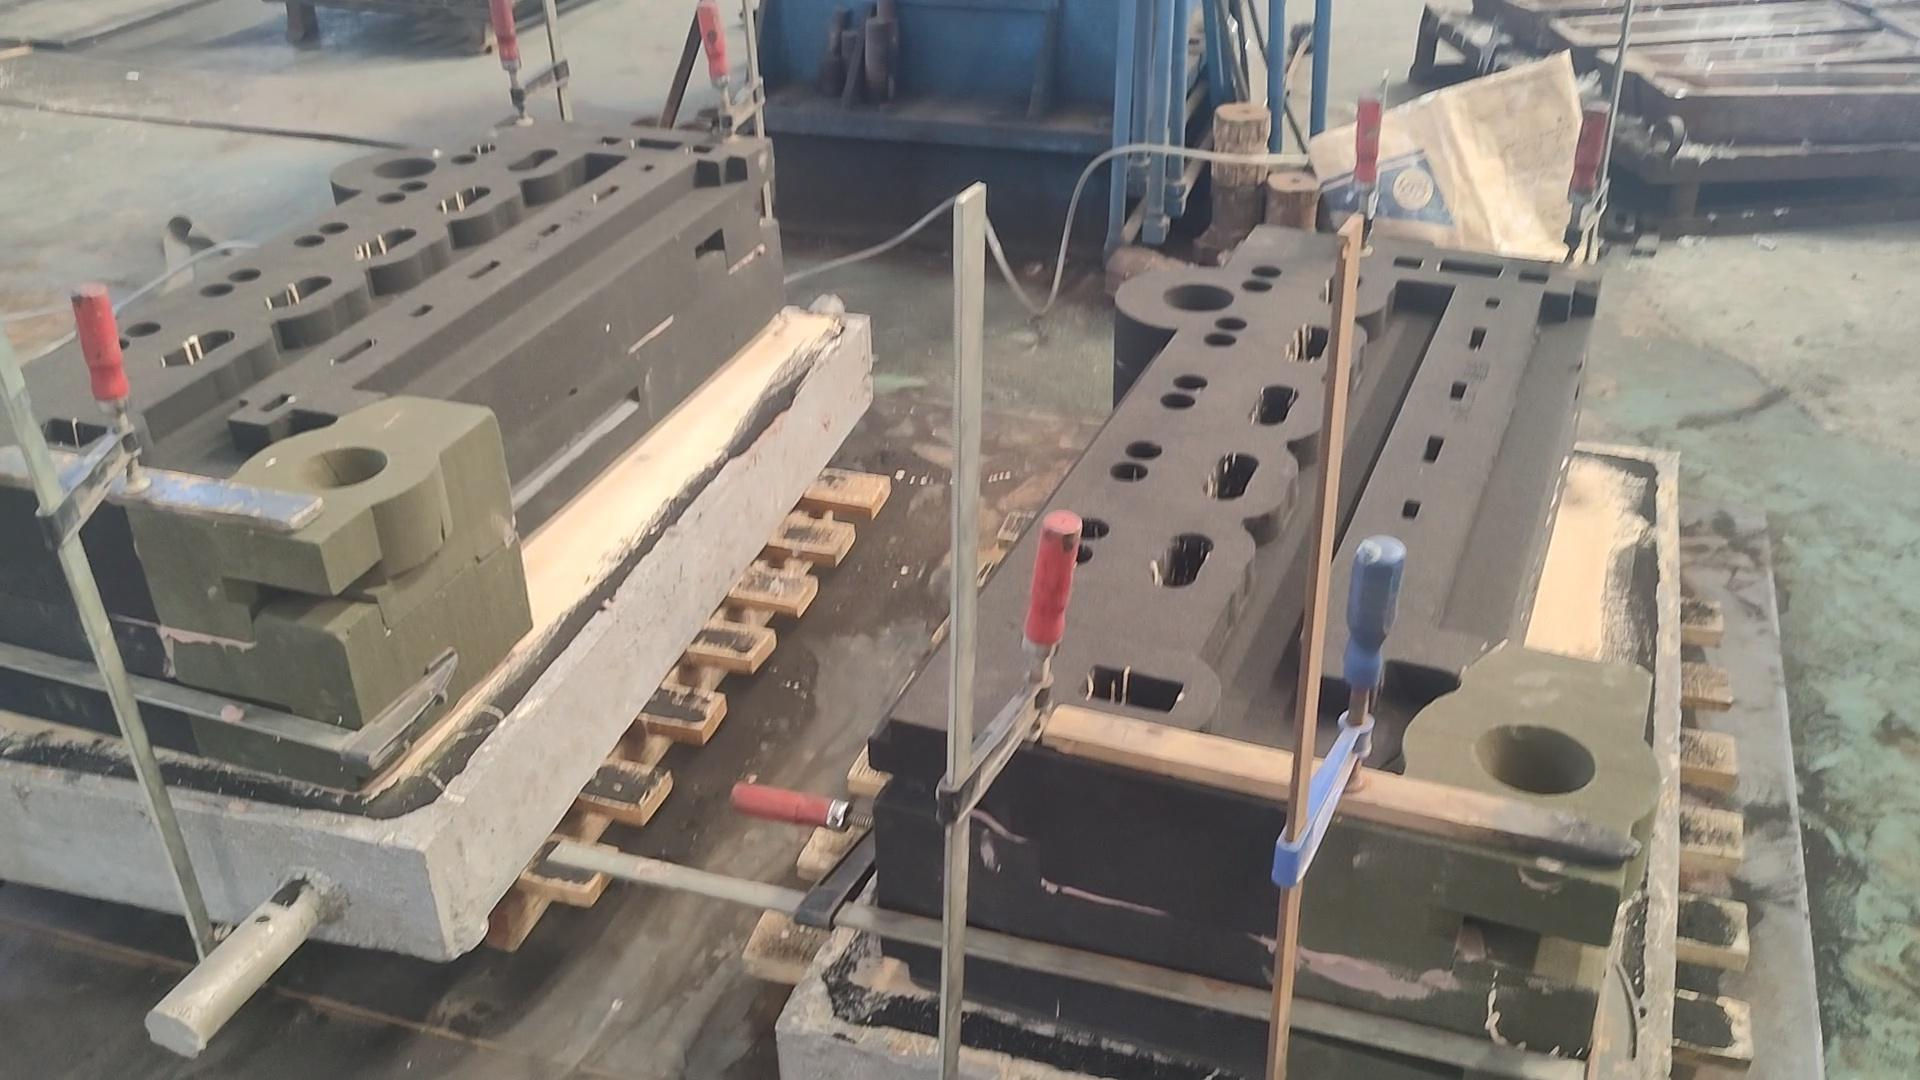pouring hole: (1476, 723, 1596, 795), (293, 447, 386, 487), (1162, 284, 1236, 311), (371, 158, 436, 179), (629, 116, 669, 128), (698, 105, 732, 119), (676, 121, 709, 135)
